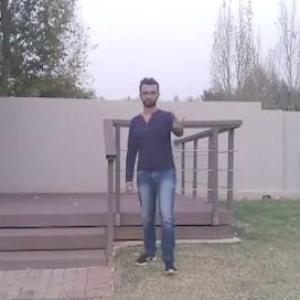takeoff-hand: (166, 104, 192, 138)
